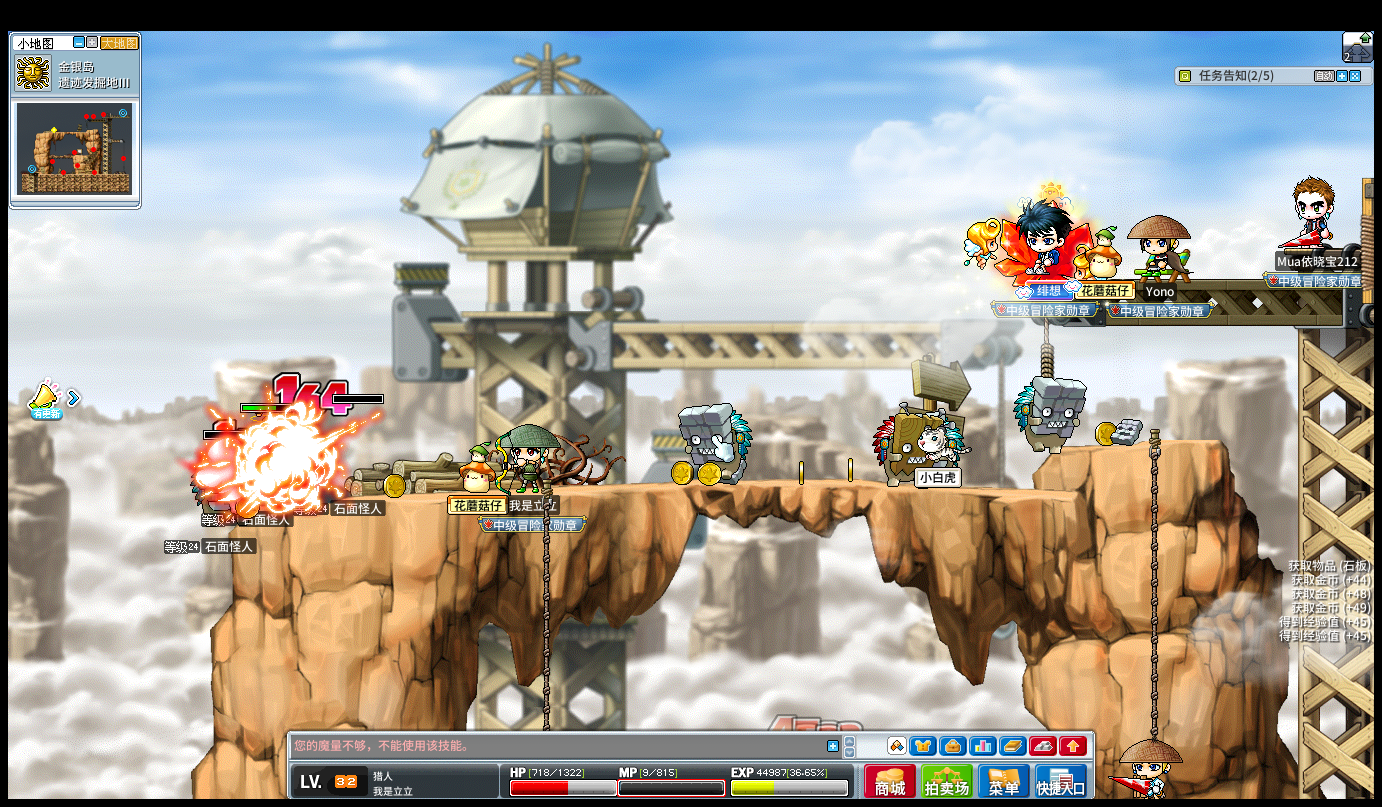floor: (199, 473, 1146, 506), (250, 476, 1102, 500), (1059, 435, 1225, 451)
monster: (872, 406, 964, 490), (679, 402, 753, 485), (1012, 374, 1086, 454), (871, 407, 937, 488)
rope: (1145, 426, 1161, 737), (539, 476, 551, 690), (1146, 634, 1159, 739)
